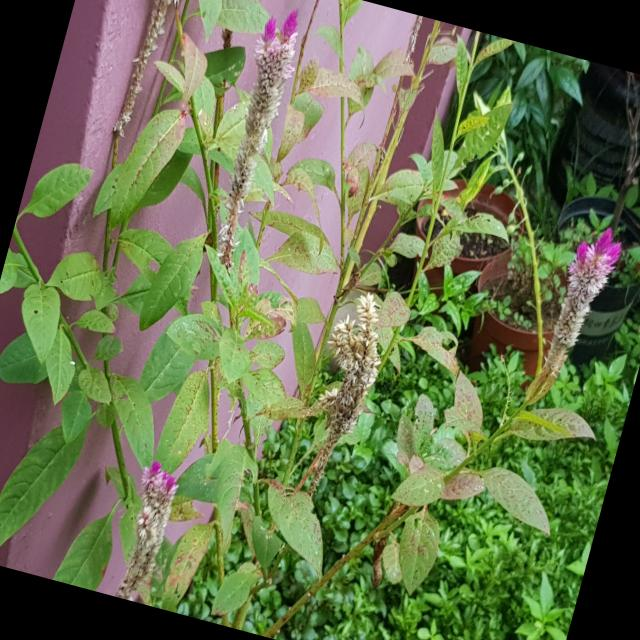Celosia-Argentea: (194, 0, 318, 266), (288, 278, 406, 494), (528, 204, 633, 394), (108, 451, 198, 604)
